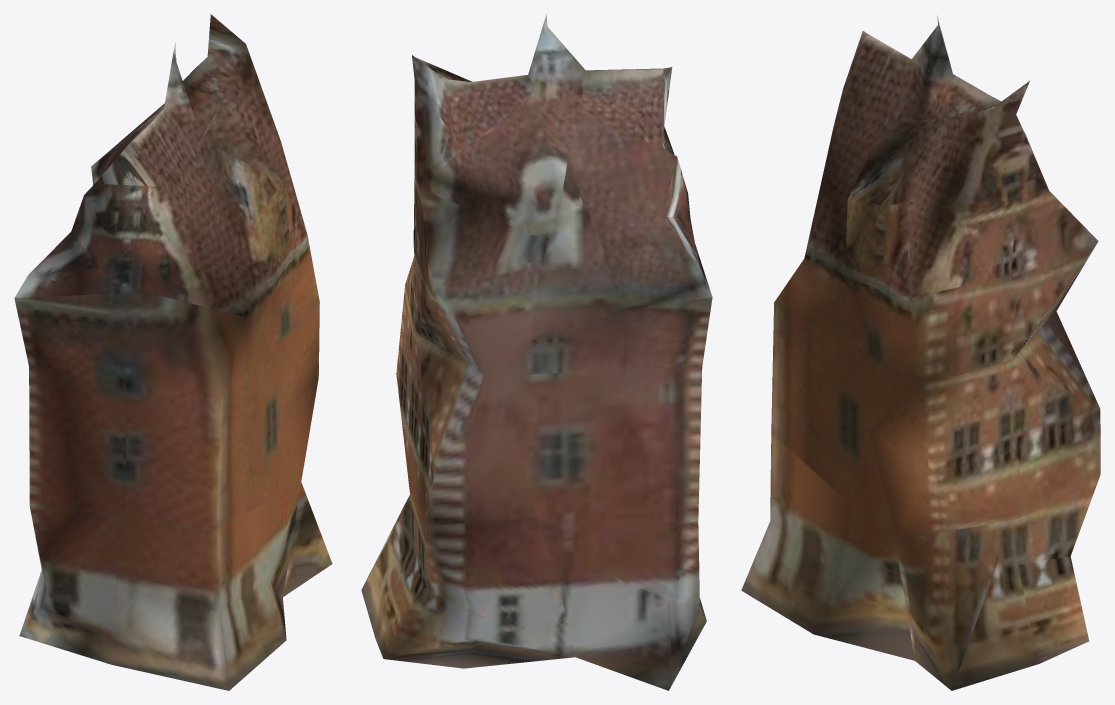
File: sf_townhouse_2_lod.glb
3 views of the same model, side by side, from view 1: azimuth 30°, elevation 25°; view 2: azimuth 150°, elevation 25°; view 3: azimuth 270°, elevation 25° (orthographic). The views are drawn at different scales.
Visible parts, largest first — view 1: Object_4; view 2: Object_4; view 3: Object_4.
Boxes of the visible parts, box(x1,y1,x2,y2) form: Object_4: box(14, 14, 332, 690); Object_4: box(361, 14, 712, 690); Object_4: box(741, 15, 1100, 690).
Size of the model in its own units: 7.55 by 12.96 by 6.99.
1 material, 1 textured.
